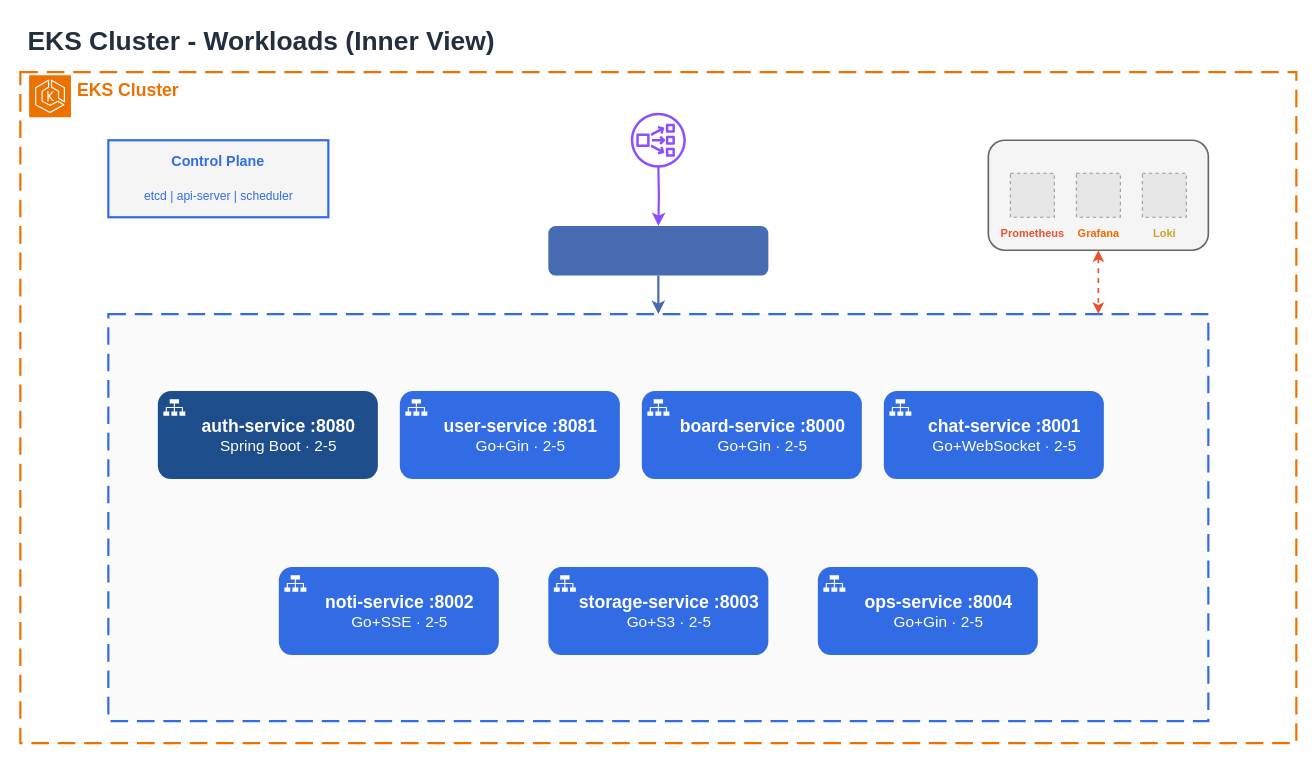
Image size: 1316x762. Some labels were removed from this diagram. Grey dashed boxes stand in for pictures. Each missing label, with the box of its shape:
Istio Ingress Gateway: (548, 226, 768, 275)
NLB: (630, 112, 685, 167)
Observability: (987, 139, 1209, 251)
wealist namespace: (107, 312, 1209, 722)
